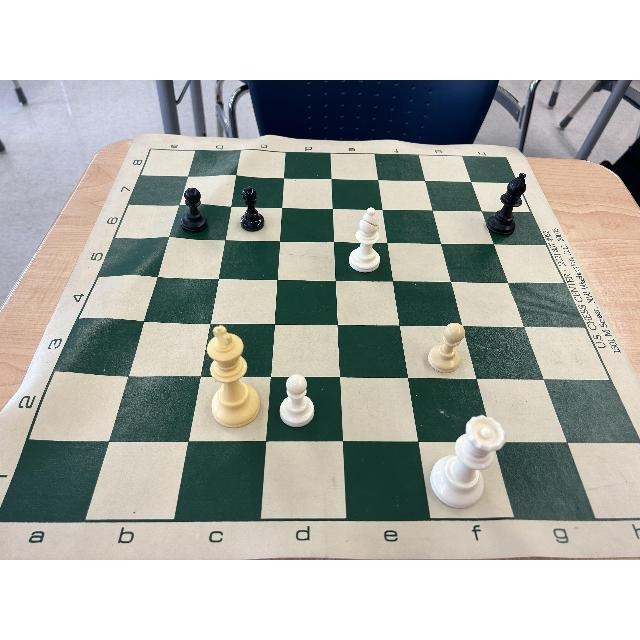black-bishop: (487, 172, 527, 236)
black-pawn: (180, 187, 209, 233), (240, 186, 264, 232)
white-bishop: (349, 207, 381, 273)
white-king: (207, 323, 261, 428)
white-pawn: (427, 322, 465, 372), (279, 376, 314, 430)
white-queen: (429, 414, 505, 509)
